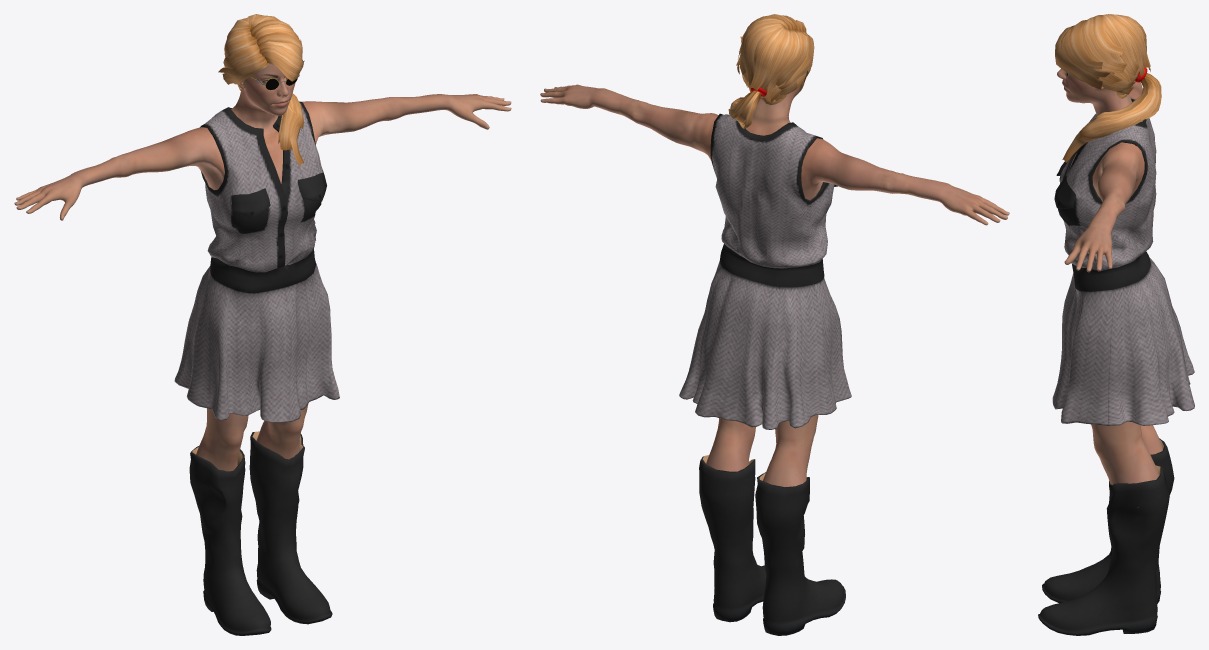
File: Female_3.obj
3 views of the same model, side by side, from view 1: azimuth 30°, elevation 25°; view 2: azimuth 150°, elevation 25°; view 3: azimuth 270°, elevation 25° (orthographic).
Parts seen in each view (by area): view 1: Tops, Body, Shoes, Hair; view 2: Tops, Body, Shoes, Hair; view 3: Tops, Shoes, Body, Hair.
Part boxes in pixels (left/top/right/bottom): Tops: left=174, top=101, right=339, bottom=422; Body: left=14, top=63, right=511, bottom=471; Shoes: left=189, top=431, right=332, bottom=635; Hair: left=218, top=14, right=304, bottom=166; Tops: left=679, top=113, right=851, bottom=429; Body: left=540, top=82, right=1009, bottom=486; Shoes: left=699, top=455, right=845, bottom=635; Hair: left=728, top=14, right=814, bottom=128; Tops: left=1052, top=97, right=1194, bottom=425; Shoes: left=1038, top=438, right=1174, bottom=635; Body: left=1057, top=56, right=1162, bottom=507; Hair: left=1055, top=14, right=1161, bottom=162.
Bounding box in the file's own units: 151 × 179 × 42.55.
1 material, 1 textured.
